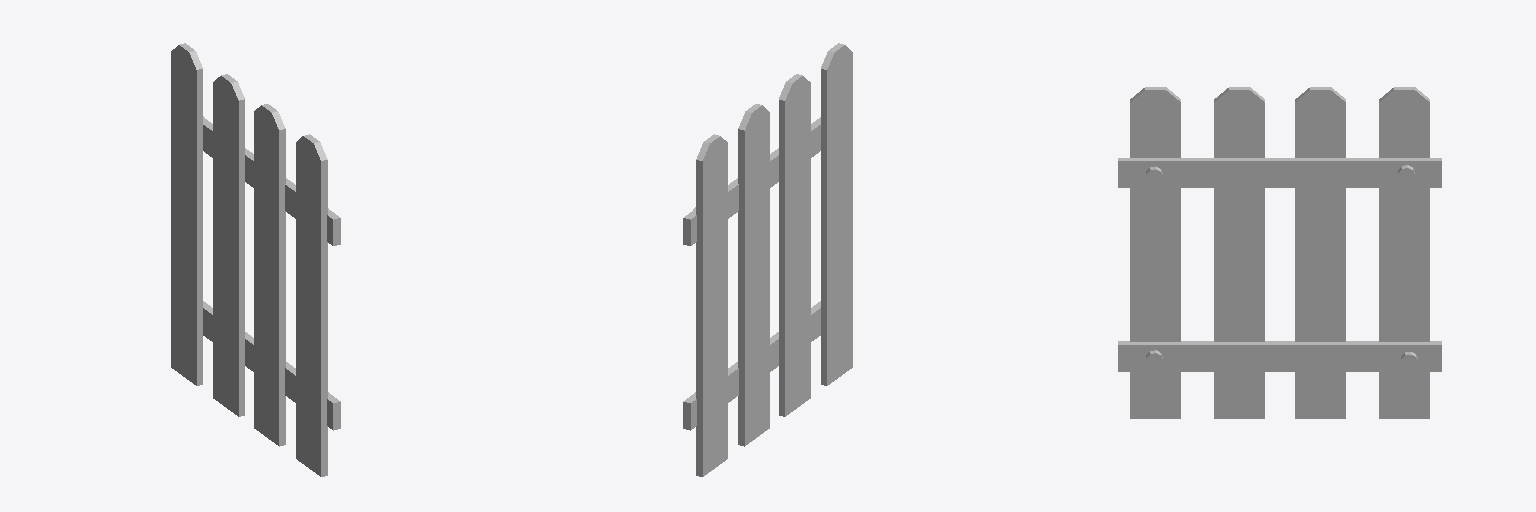
Rendered from płot1.obj.
3 views of the same model, side by side, from view 1: azimuth 30°, elevation 25°; view 2: azimuth 150°, elevation 25°; view 3: azimuth 270°, elevation 25° (orthographic).
Parts seen in each view (by area): view 1: Cube.001_Cube; view 2: Cube.001_Cube; view 3: Cube.001_Cube.
Part boxes in pixels (x1,y1,x2,y2): Cube.001_Cube: (171,43,340,476); Cube.001_Cube: (683,43,852,476); Cube.001_Cube: (1118,87,1441,418).
Size of the model in its own units: 0.2629 by 4.25 by 3.8.